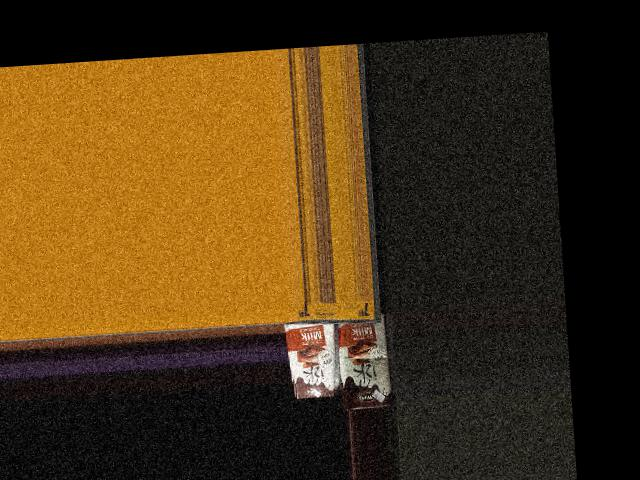chocolate: (279, 312, 338, 402)
